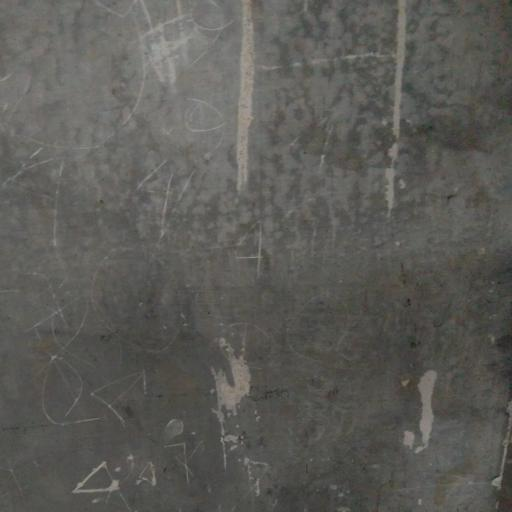stain: (30, 0, 512, 512)
